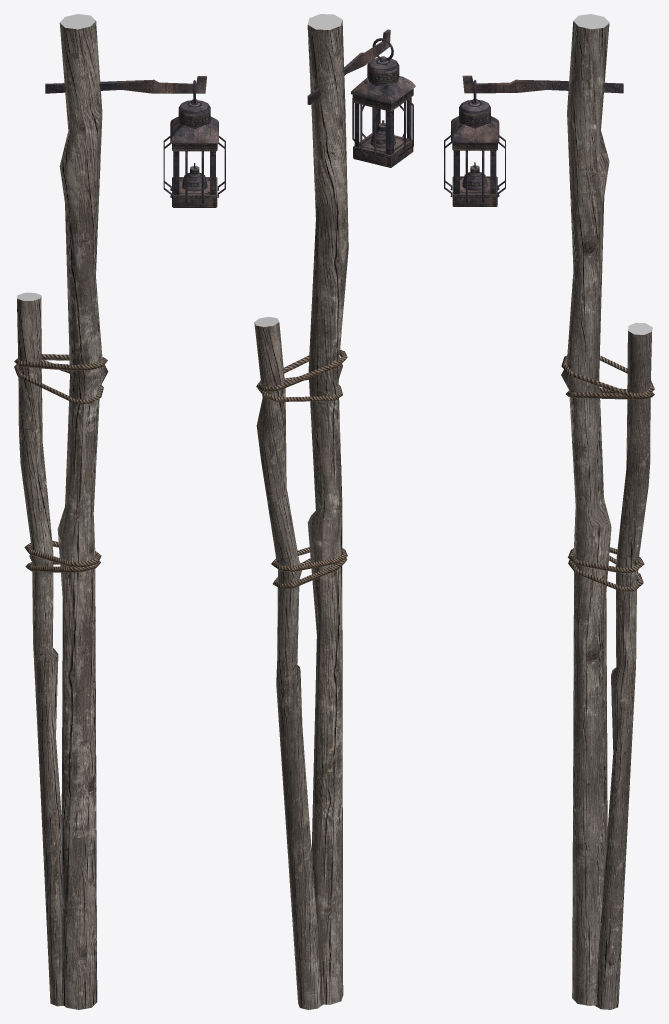
The model's file is Lamp1A.fbx.
3 renders of one model, left to right at view 1: azimuth 90°, elevation 25°; view 2: azimuth 150°, elevation 25°; view 3: azimuth 270°, elevation 25°, orthographic.
Parts seen in each view (by area): view 1: polySurface1330; view 2: polySurface1330; view 3: polySurface1330.
Part boxes in pixels (<box>): polySurface1330: <box>14,14,225,1009</box>; polySurface1330: <box>254,14,415,1009</box>; polySurface1330: <box>444,14,654,1009</box>.
Bounding box in the file's own units: 0.4118 × 5.41 × 1.05.
